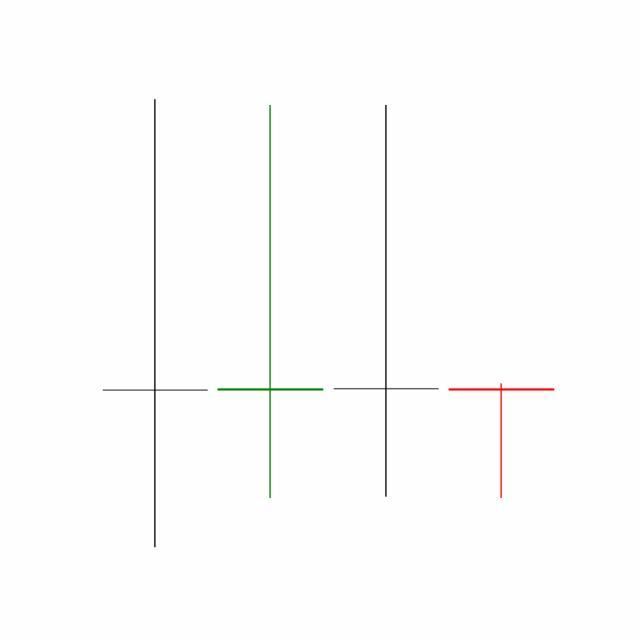Dragonfly Doji: (444, 382, 560, 500)
